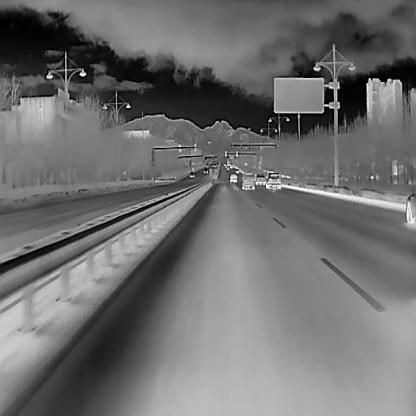car: (265, 172, 281, 190), (241, 173, 254, 190), (254, 172, 266, 186), (228, 173, 237, 183), (189, 171, 194, 177), (203, 167, 207, 173), (226, 165, 230, 170), (235, 168, 239, 173), (229, 162, 233, 167), (205, 163, 208, 167), (209, 163, 212, 167), (214, 163, 217, 167), (223, 162, 226, 166)
